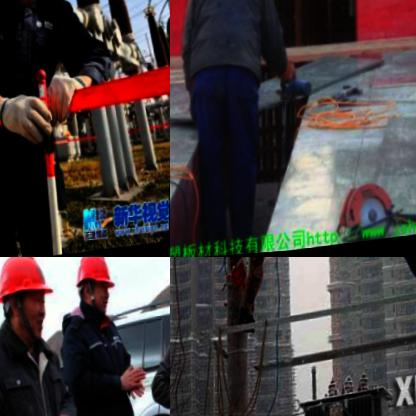helmet: (0, 257, 58, 349), (71, 257, 117, 323)
